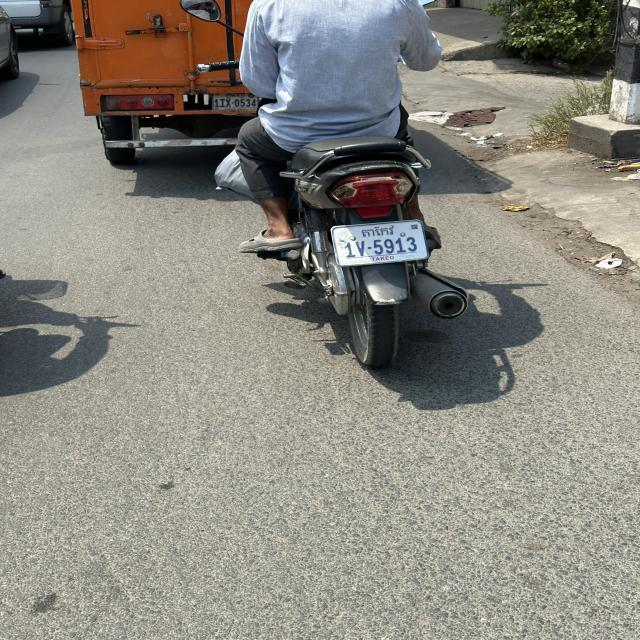Takeo: (359, 224, 397, 238)
